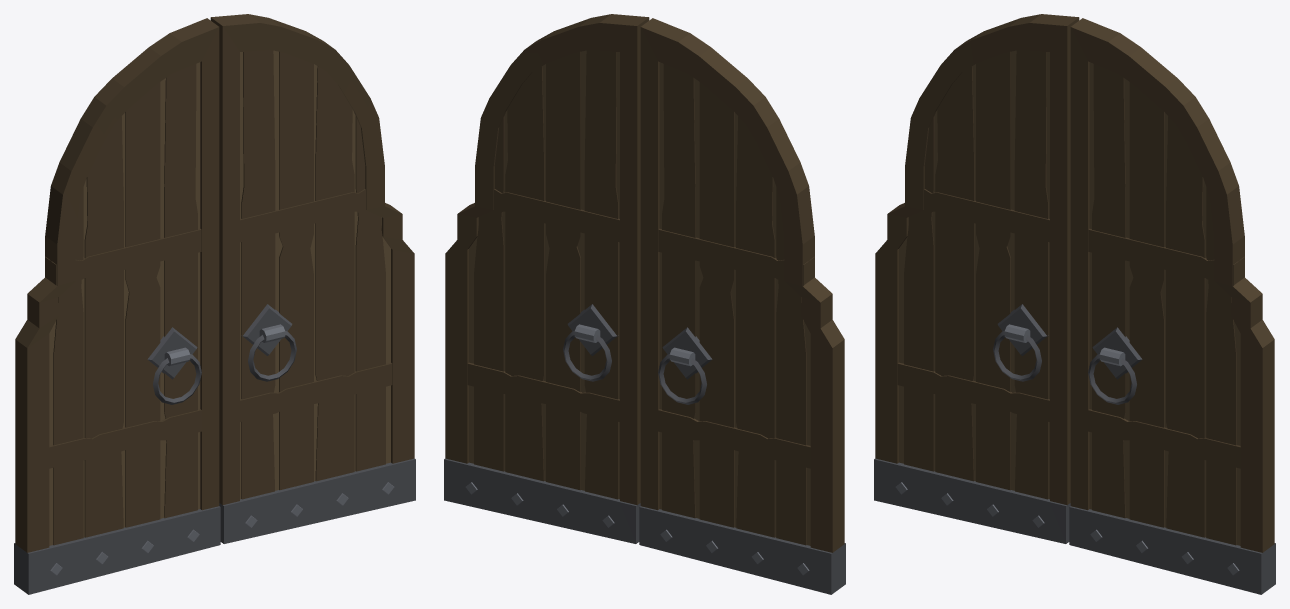
File: Doors_RoundArch.glb
3 renders of one model, left to right at view 1: azimuth 30°, elevation 25°; view 2: azimuth 150°, elevation 25°; view 3: azimuth 330°, elevation 25°, orthographic.
Visible parts, largest first — view 1: DarkWood, Metal, Wood, Metal_Light; view 2: DarkWood, Metal, Wood, Metal_Light; view 3: DarkWood, Metal, Wood, Metal_Light.
Part boxes in pixels (x1,y1,x2,y2): DarkWood: (15,14,414,552); Metal: (14,304,415,594); Wood: (49,50,390,545); Metal_Light: (50,324,394,575); DarkWood: (445,14,844,552); Metal: (444,304,845,594); Wood: (469,50,810,545); Metal_Light: (465,324,809,575); DarkWood: (875,14,1274,552); Metal: (874,304,1275,594); Wood: (899,50,1240,545); Metal_Light: (895,324,1239,575).
Bounding box in the file's own units: 2.31 × 2.97 × 0.2743.
